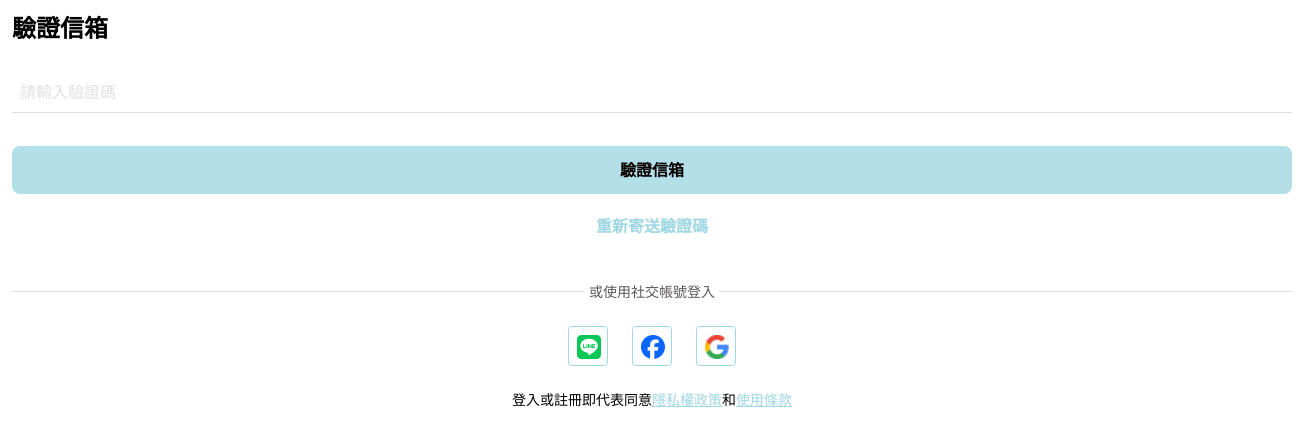
Test: VerifyEmailBox › should display error message on invalid code
Type "invalid" into the field with placeholder "請輸入驗證碼" at (652, 90), box x1=12 y1=68 x2=1292 y2=112
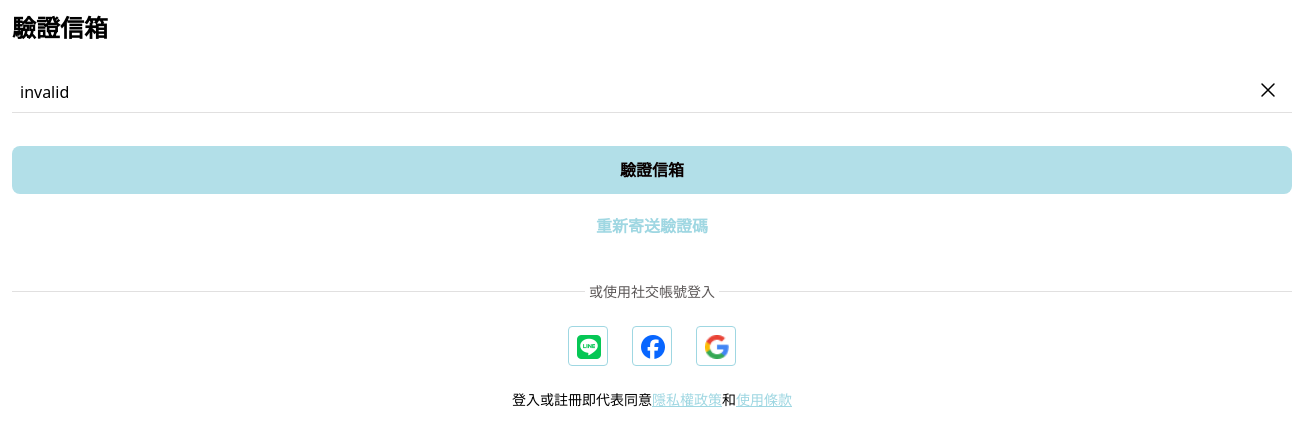
Click the button "驗證信箱" at (652, 170), box x1=12 y1=146 x2=1292 y2=194
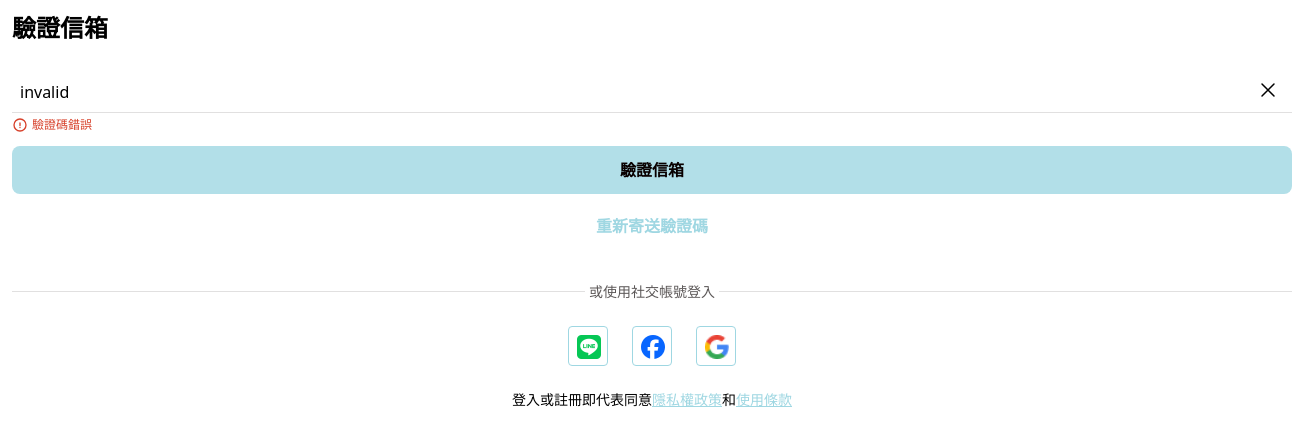
Expected: the text "驗證碼錯誤" is shown, x1=32 y1=117 x2=92 y2=133
